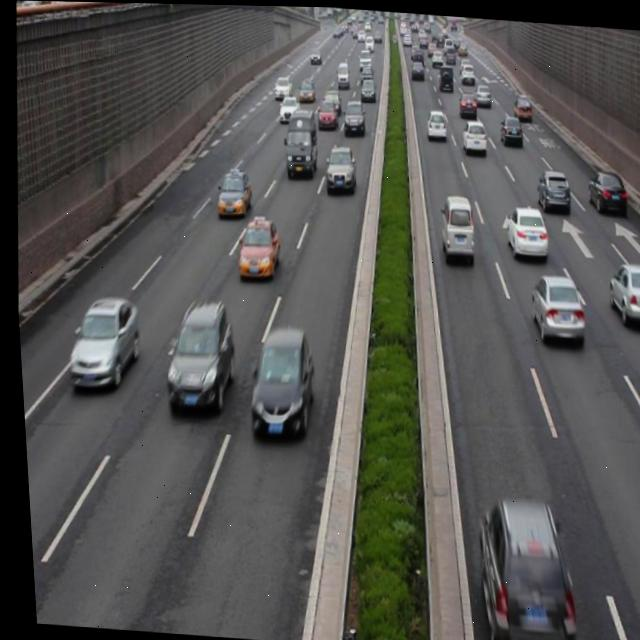car: (463, 492, 574, 640), (156, 295, 234, 414), (239, 322, 314, 442), (59, 290, 139, 393), (523, 269, 582, 342), (233, 215, 279, 282), (600, 256, 640, 322), (501, 203, 547, 258), (211, 167, 251, 219), (583, 166, 625, 213), (321, 143, 355, 193), (532, 165, 568, 210), (459, 115, 487, 153), (339, 96, 364, 135), (422, 105, 447, 140), (314, 95, 336, 129), (497, 112, 521, 143), (277, 93, 299, 121)
truck: (280, 104, 319, 177), (434, 190, 473, 258)
